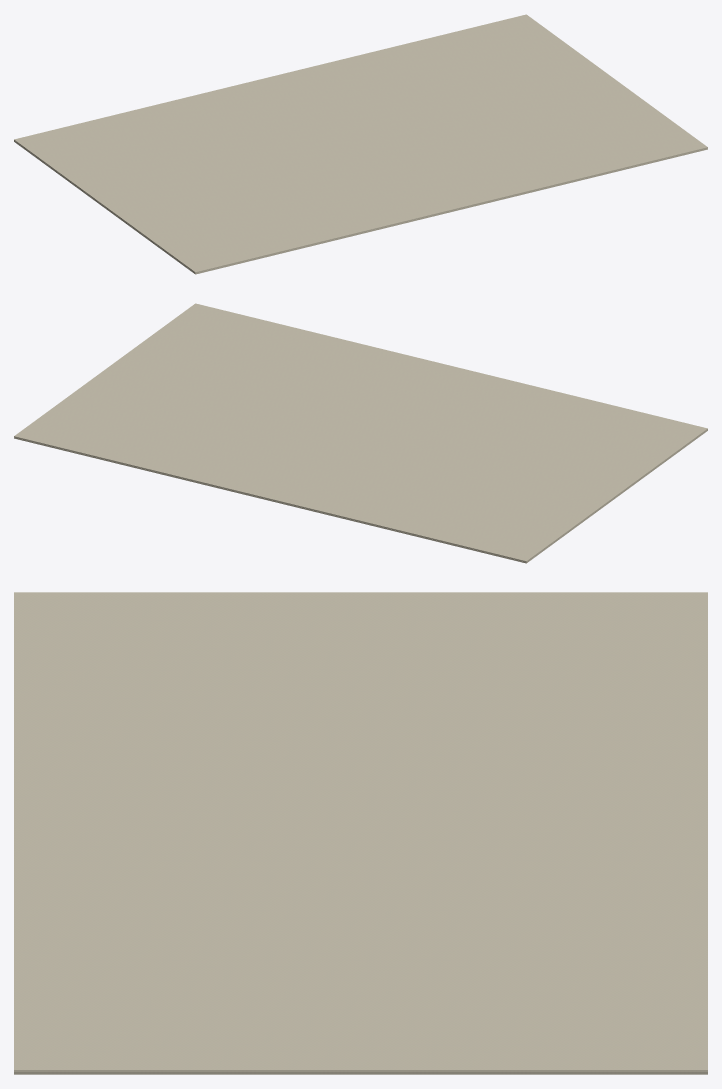
The model's file is D05_FoldedLetter.fbx.
3 renders of one model, top to bottom at view 1: azimuth 30°, elevation 25°; view 2: azimuth 150°, elevation 25°; view 3: azimuth 270°, elevation 25°, orthographic. The views are drawn at different scales.
Visible parts, largest first — view 1: LetterPanel2, LetterPanel1, LetterPanel0; view 2: LetterPanel2, LetterPanel1, LetterPanel0; view 3: LetterPanel2, LetterPanel1, LetterPanel0.
Part boxes in pixels (x1,y1,x2,y2): LetterPanel2: (14,14,707,272); LetterPanel1: (14,140,707,273); LetterPanel0: (14,141,707,274); LetterPanel2: (14,303,707,561); LetterPanel1: (14,429,707,562); LetterPanel0: (14,430,707,563); LetterPanel2: (14,592,707,1071); LetterPanel1: (14,1071,707,1073); LetterPanel0: (14,1073,707,1074).
Size of the model in its own units: 0.15 by 0.00063 by 0.092.
